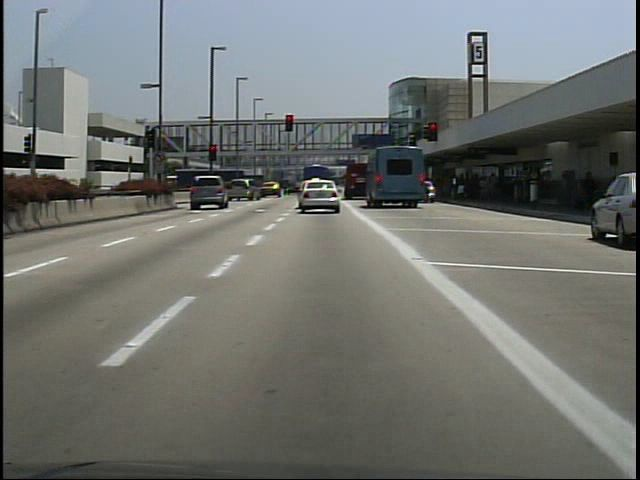person: (580, 168, 599, 222)
